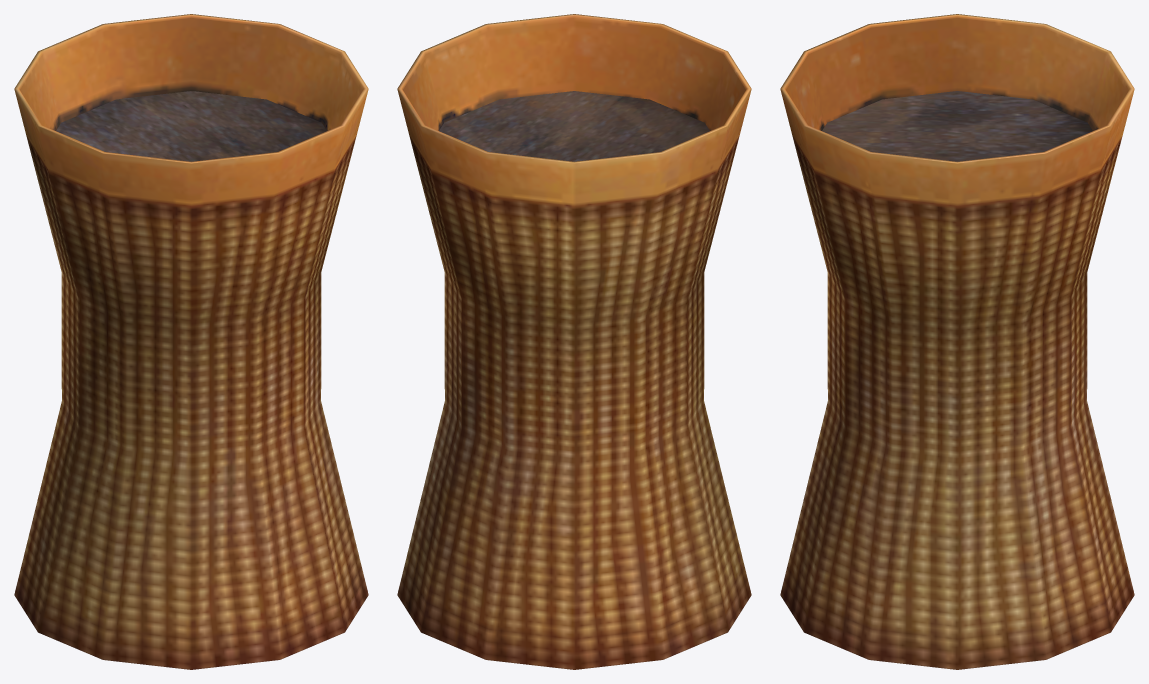
File: vase.glb
3 renders of one model, left to right at view 1: azimuth 30°, elevation 25°; view 2: azimuth 150°, elevation 25°; view 3: azimuth 270°, elevation 25°, orthographic.
Visible parts, largest first — view 1: Cylinder03; view 2: Cylinder03; view 3: Cylinder03.
Part boxes in pixels (<box>): Cylinder03: <box>14,14,368,669</box>; Cylinder03: <box>397,14,751,669</box>; Cylinder03: <box>780,14,1134,669</box>.
Size of the model in its own units: 20 by 31.52 by 20.
1 material, 1 textured.
